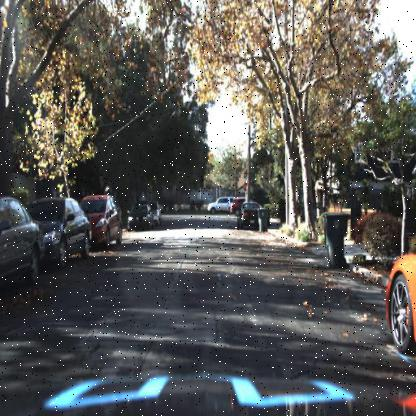car: (23, 195, 96, 271), (41, 191, 94, 275), (1, 192, 43, 296), (384, 254, 416, 364), (90, 185, 124, 256), (82, 189, 123, 247), (126, 198, 156, 228), (236, 198, 262, 226), (207, 193, 234, 216)
